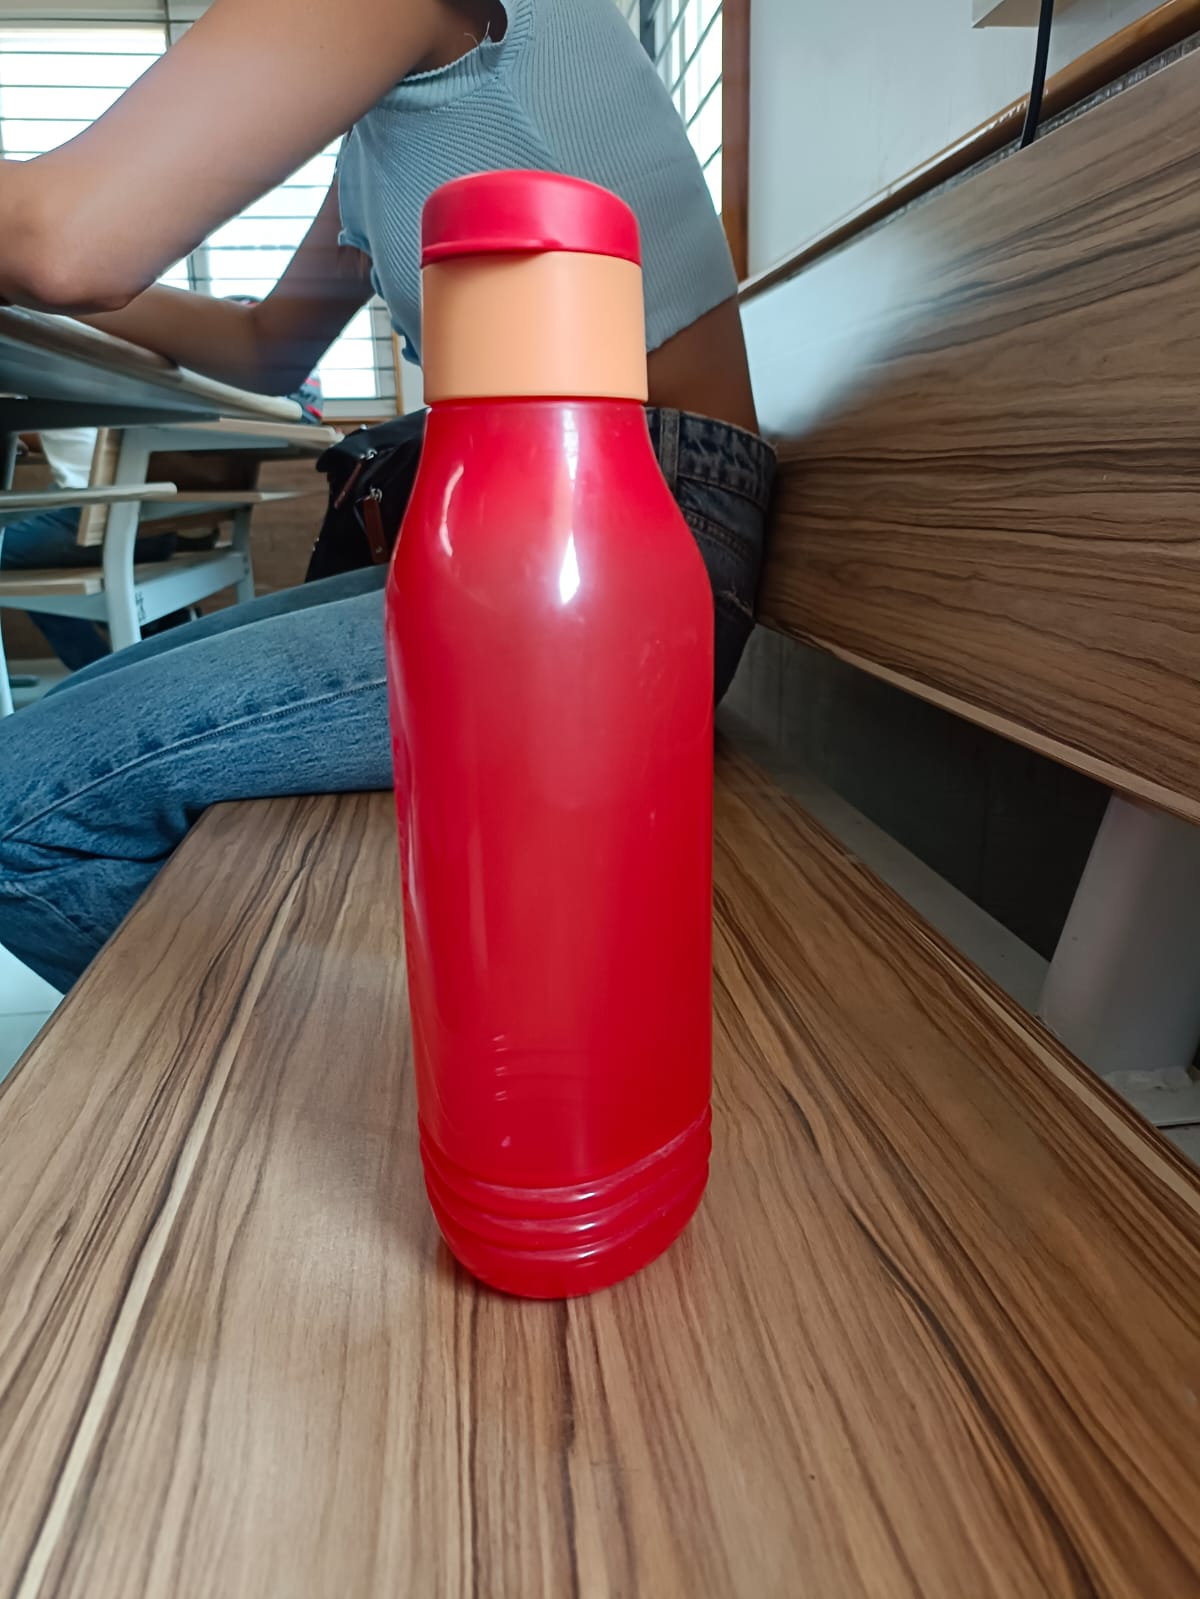bottle: (372, 160, 730, 1313)
